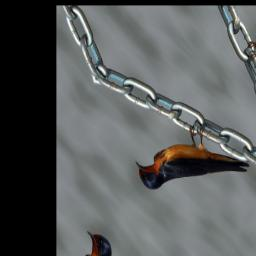Swallow: (129, 90, 252, 244)
